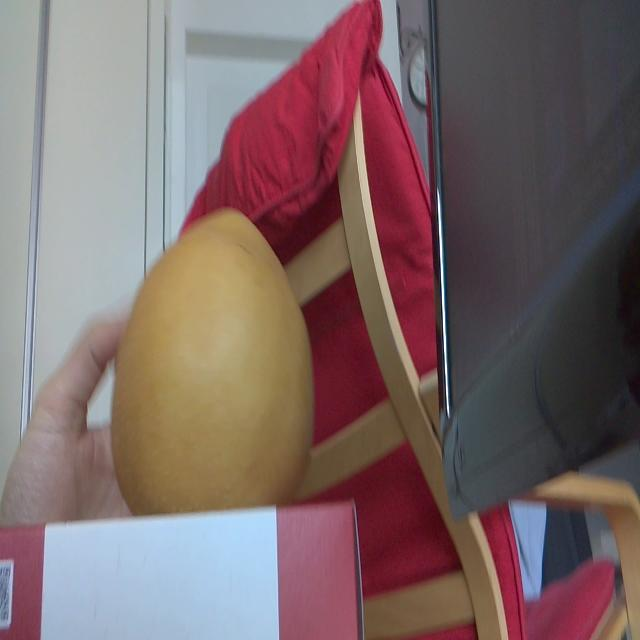pear: (111, 208, 312, 510)
